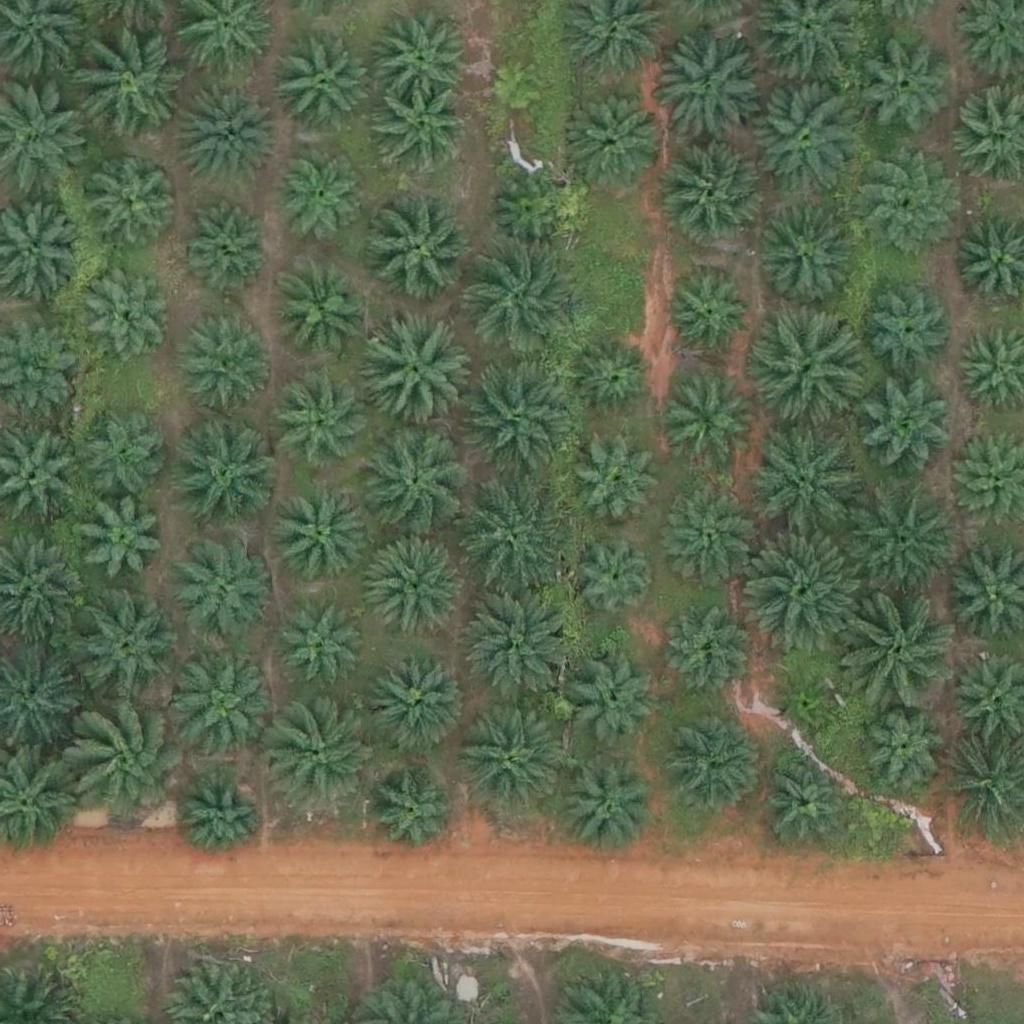Kelapa_Sawit: (67, 702, 192, 828), (842, 590, 955, 704), (751, 85, 864, 199), (465, 362, 578, 476), (362, 190, 475, 304), (751, 304, 864, 417), (656, 35, 769, 148), (355, 318, 468, 431), (453, 703, 565, 817), (845, 483, 957, 596), (750, 425, 862, 538), (747, 536, 859, 649), (468, 241, 580, 354), (456, 481, 568, 594), (464, 593, 576, 706), (358, 425, 470, 538), (268, 699, 380, 812), (70, 26, 182, 139), (67, 591, 179, 704), (856, 698, 956, 799), (851, 378, 951, 479), (757, 205, 857, 306), (670, 145, 770, 246), (664, 716, 764, 817), (571, 86, 671, 187), (558, 760, 658, 861), (371, 6, 471, 107), (369, 651, 469, 752), (272, 35, 372, 136), (272, 259, 372, 360), (274, 376, 374, 477), (270, 487, 370, 588), (175, 308, 275, 409), (174, 427, 274, 528), (171, 536, 271, 637), (83, 148, 183, 249), (368, 534, 468, 634), (174, 90, 274, 190), (176, 659, 276, 759), (275, 157, 363, 246), (860, 170, 948, 258), (859, 40, 947, 128), (665, 491, 753, 579), (574, 442, 662, 530), (570, 536, 658, 624), (488, 171, 576, 259), (380, 86, 468, 174), (370, 774, 458, 862), (180, 201, 268, 289), (762, 757, 849, 846), (666, 272, 753, 361), (282, 602, 369, 691), (867, 285, 954, 373), (670, 387, 757, 475), (663, 607, 750, 695), (569, 339, 656, 427), (570, 653, 657, 741), (177, 774, 264, 862), (81, 269, 168, 357), (81, 410, 168, 498), (78, 498, 165, 586), (778, 675, 841, 738), (487, 57, 549, 120)
